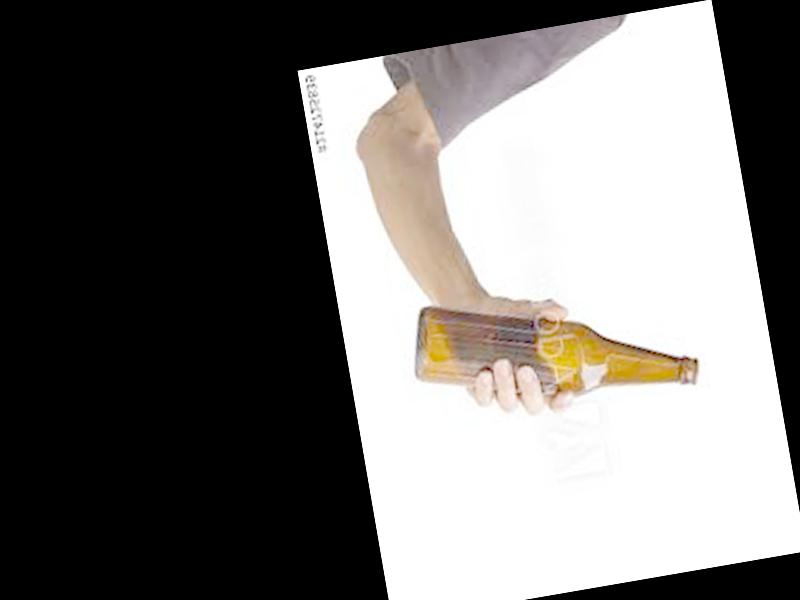Beer: (404, 262, 703, 433)
